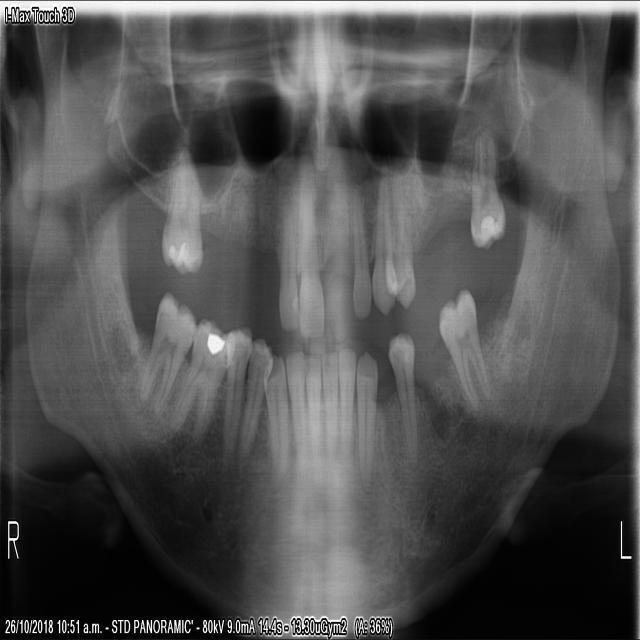LCD: (355, 345, 380, 496)
LCU: (370, 168, 396, 313)
LID: (337, 340, 356, 464), (321, 341, 338, 459)
LIU: (320, 191, 354, 338), (349, 190, 372, 318)
LMD: (436, 285, 491, 415)
LMU: (465, 119, 507, 250)
LPMD: (385, 334, 416, 470)
LPMU: (384, 172, 414, 310)
RCD: (260, 350, 291, 484)
RID: (285, 345, 305, 468), (302, 340, 321, 450)
RIU: (295, 191, 323, 336), (275, 191, 299, 334)
RMD: (165, 303, 226, 444), (135, 281, 196, 417)
RPMD: (221, 323, 253, 468), (236, 334, 273, 455)
